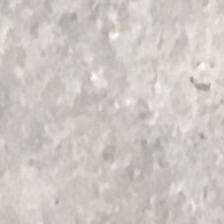Non_Crack: (17, 27, 194, 190)
